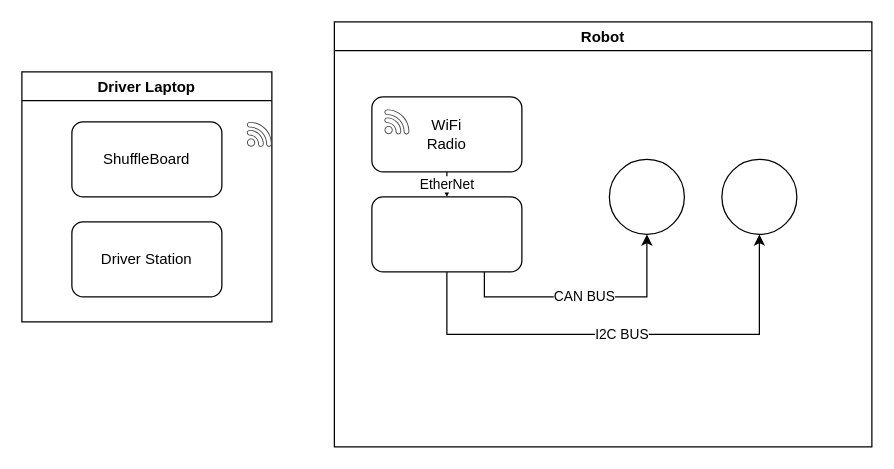
Image size: 894x469. Some labels were removed from this diagram. The centre of each missing label's shape, as x and y in pixels:
"Motors" belongs at point (646, 196).
"RoboRio" belongs at point (446, 234).
"Sensors" belongs at point (759, 196).
